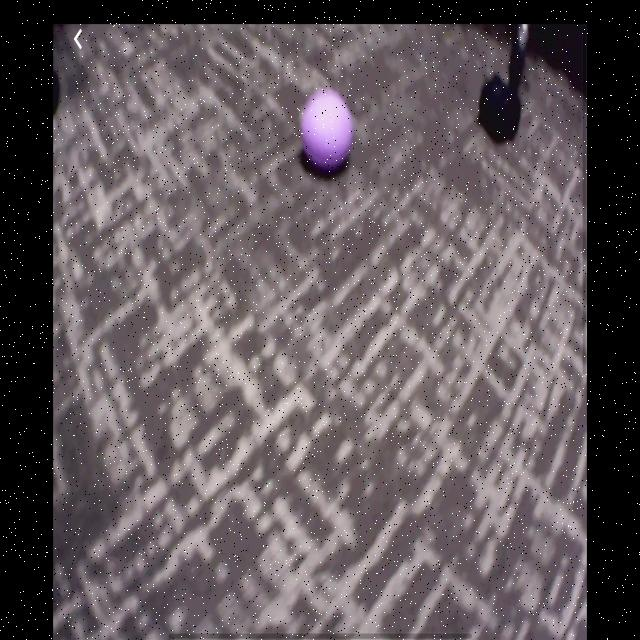ball: (302, 94, 354, 172)
